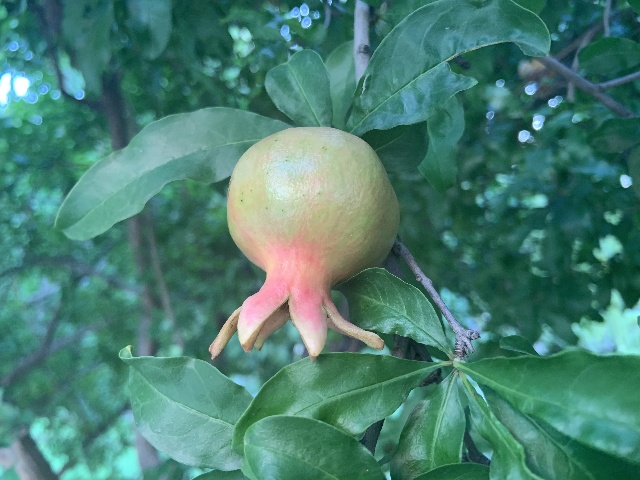mid-growth: (207, 126, 399, 362)
